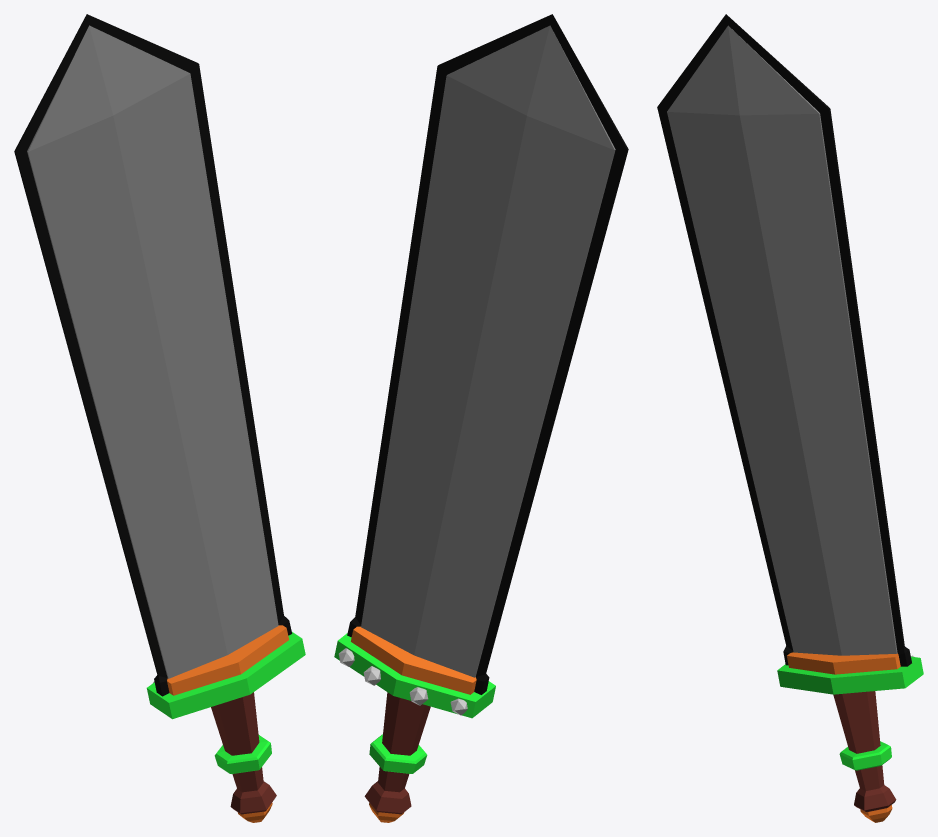
Rendered from Sword.obj.
3 views of the same model, side by side, from view 1: azimuth 30°, elevation 25°; view 2: azimuth 150°, elevation 25°; view 3: azimuth 330°, elevation 25° (orthographic). The views are drawn at different scales.
Visible parts, largest first — view 1: Sword_Cylinder; view 2: Sword_Cylinder; view 3: Sword_Cylinder.
Boxes of the visible parts, bbox=[...] form: Sword_Cylinder: bbox=[14, 14, 305, 822]; Sword_Cylinder: bbox=[334, 14, 628, 822]; Sword_Cylinder: bbox=[657, 14, 923, 822].
Bounding box in the file's own units: 7.62 × 21.9 × 2.17.
